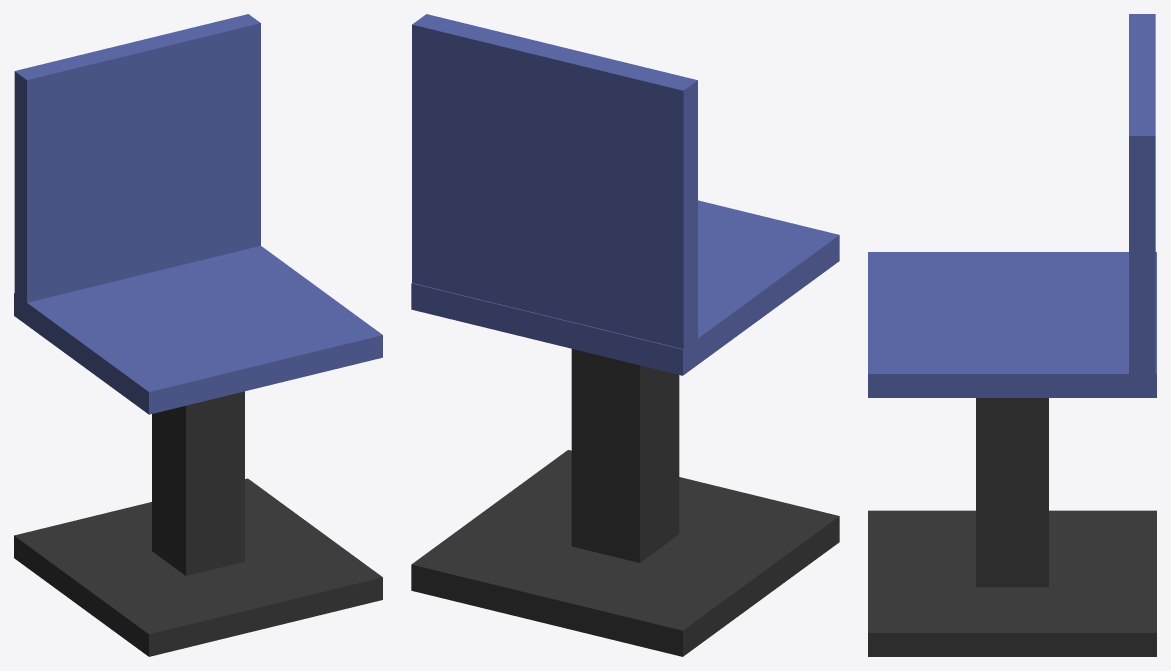
The model's file is chair.glb.
The picture shows the model from 3 angles, left to right: view 1: azimuth 30°, elevation 25°; view 2: azimuth 150°, elevation 25°; view 3: azimuth 270°, elevation 25°; orthographic projection. The views are drawn at different scales.
Parts seen in each view (by area): view 1: Cube.004, Cube.003, Cube.001, Cube.002; view 2: Cube.004, Cube.001, Cube.003, Cube.002; view 3: Cube.003, Cube.001, Cube.002, Cube.004.
Part boxes in pixels (<box>): Cube.004: <box>14,14,260,324</box>; Cube.003: <box>14,246,382,414</box>; Cube.001: <box>14,478,382,656</box>; Cube.002: <box>152,391,244,575</box>; Cube.004: <box>412,14,697,367</box>; Cube.001: <box>411,450,839,656</box>; Cube.003: <box>411,200,839,375</box>; Cube.002: <box>571,349,679,562</box>; Cube.003: <box>868,252,1156,397</box>; Cube.001: <box>868,510,1156,656</box>; Cube.002: <box>976,398,1048,587</box>; Cube.004: <box>1129,14,1155,397</box>.
Bounding box in the file's own units: 0.1032 × 0.2055 × 0.1032.
